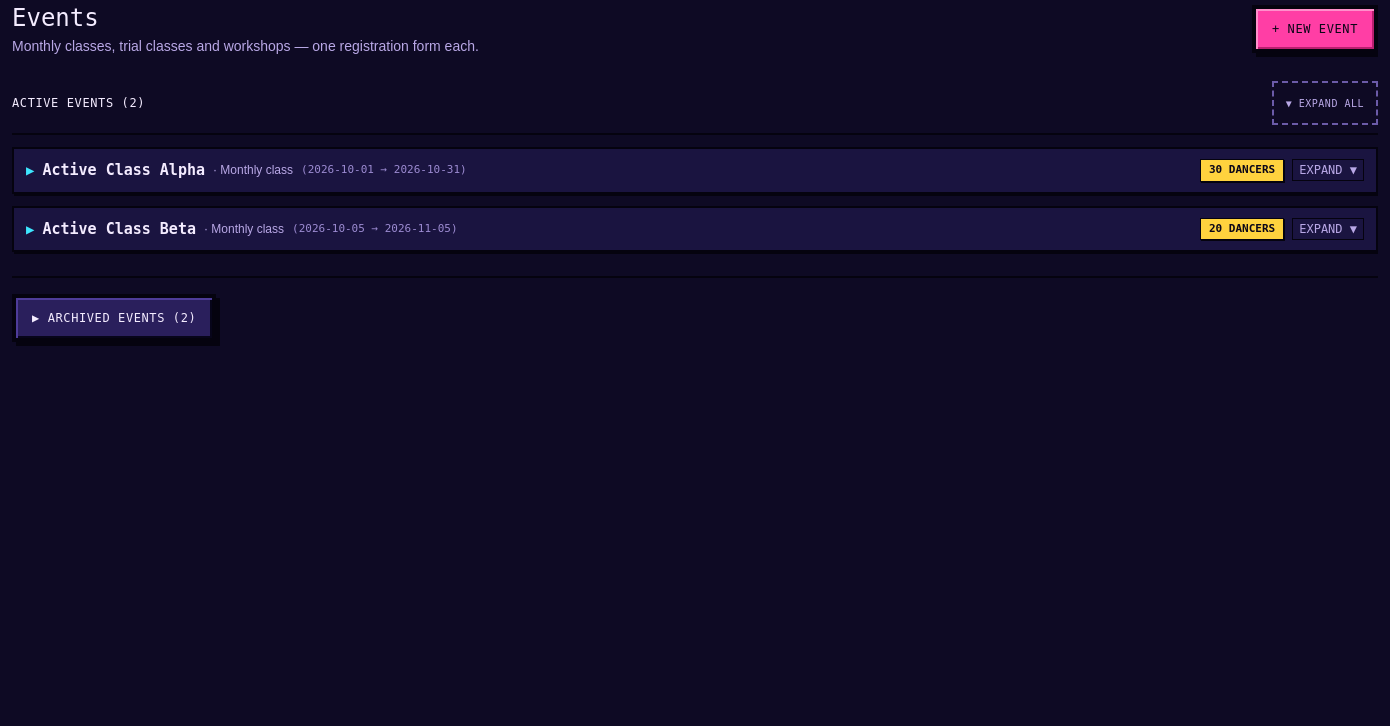
EventsPage Collapsible Accordions and Year-Based Archive › groups archived events by year descending with collapsible year accordions and event bars
// Toggle open archived section
Click the button "▶ ARCHIVED EVENTS (2)" at (114, 318), box [12,294,216,342]
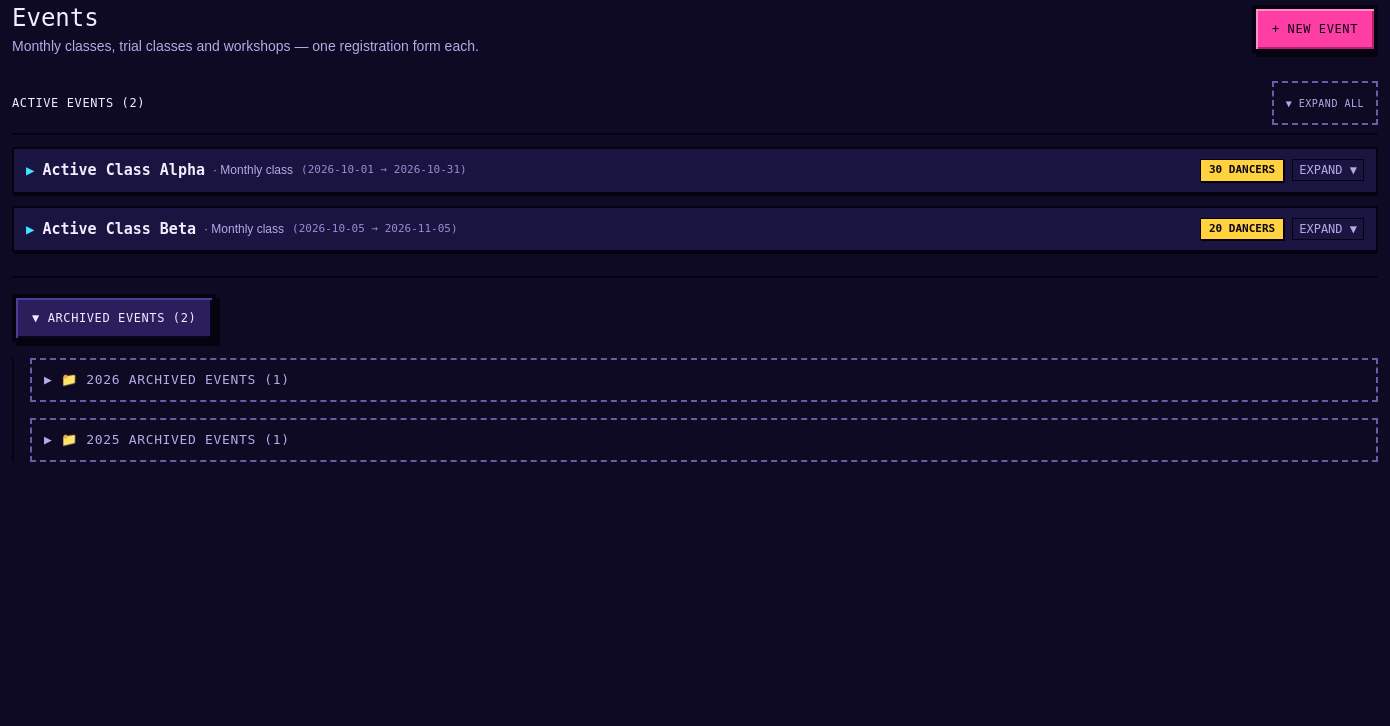
Now the button "▶ 📁 2026 ARCHIVED EVENTS (1)" is shown
Now the button "▶ 📁 2025 ARCHIVED EVENTS (1)" is shown, box [30,418,1378,462]
// Open 2026 year group
Click the button "▶ 📁 2026 ARCHIVED EVENTS (1)" at (69, 380), box [30,358,1378,402]
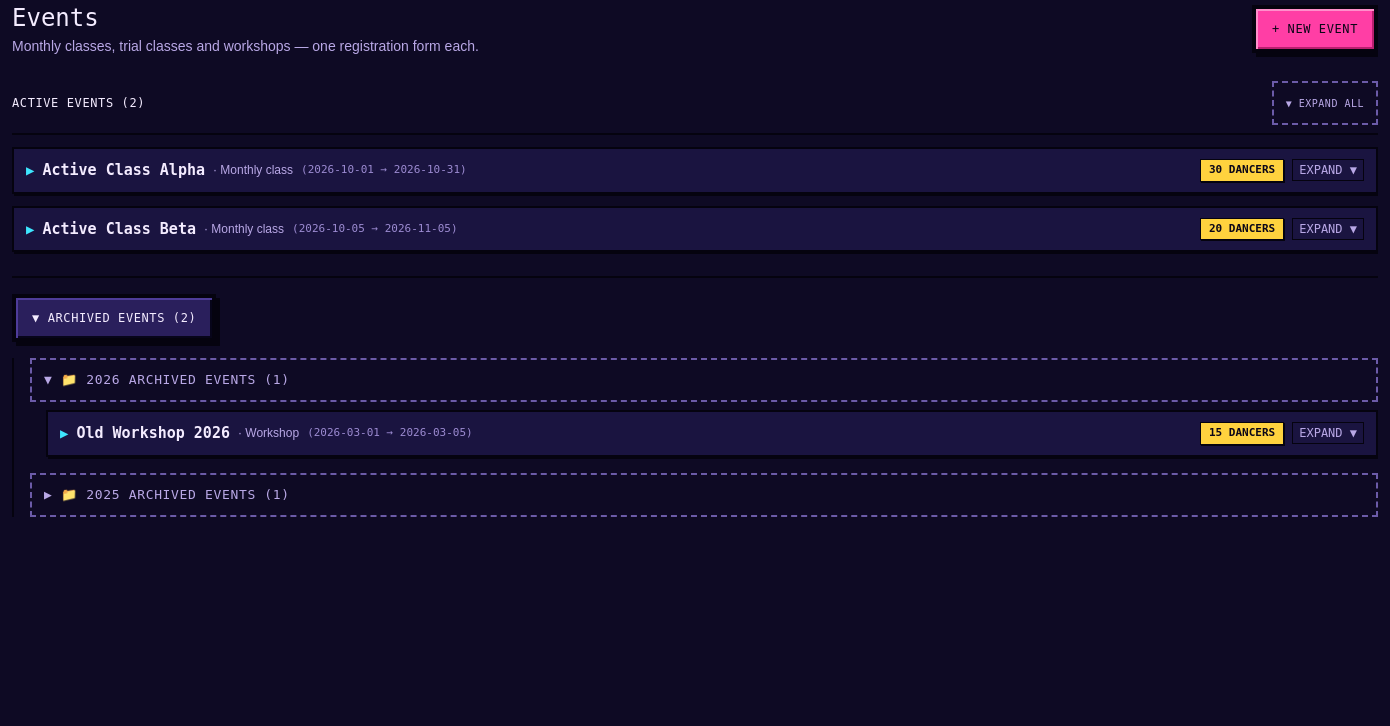
Now the text "Old Workshop 2026" is shown, box [76,422,230,444]
// Expand Old Workshop 2026
Click the button with test id "toggle-event-ev-archived-2026" at (153, 433), box [46,410,1378,456]
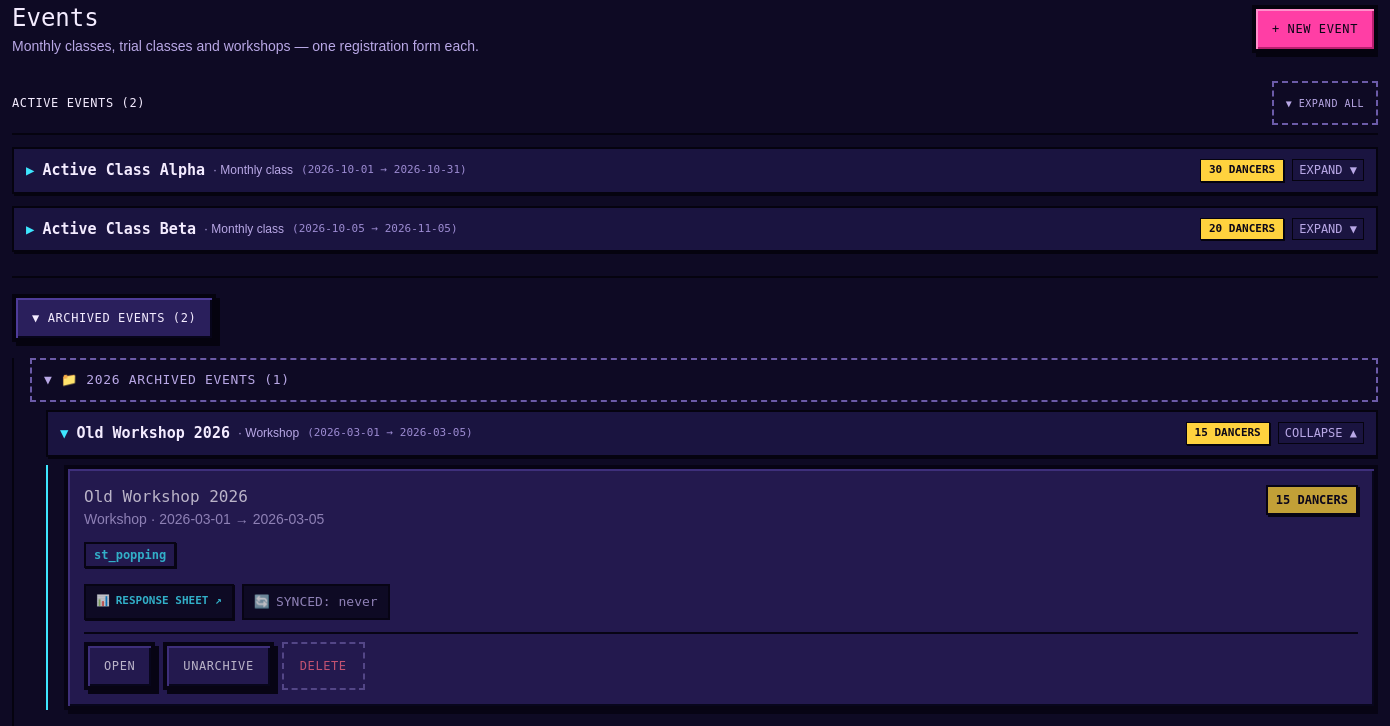
Now the element with test id "event-card-ev-archived-2026" is shown, box [64,464,1378,710]
